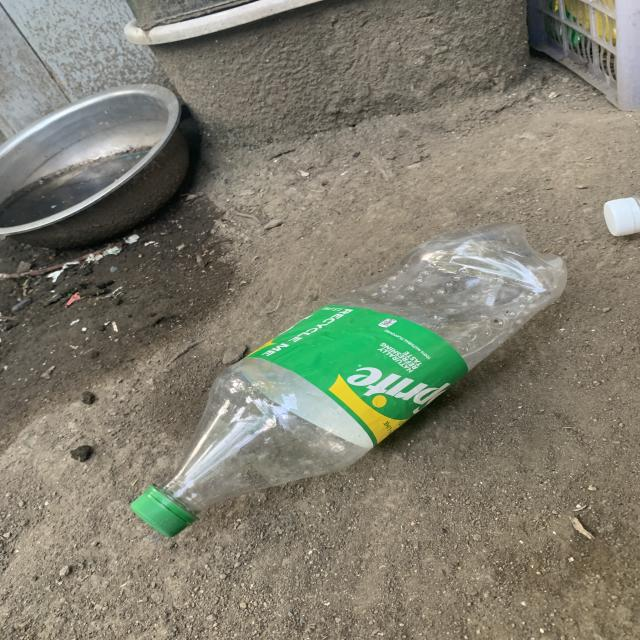Bottle: (131, 223, 567, 537)
